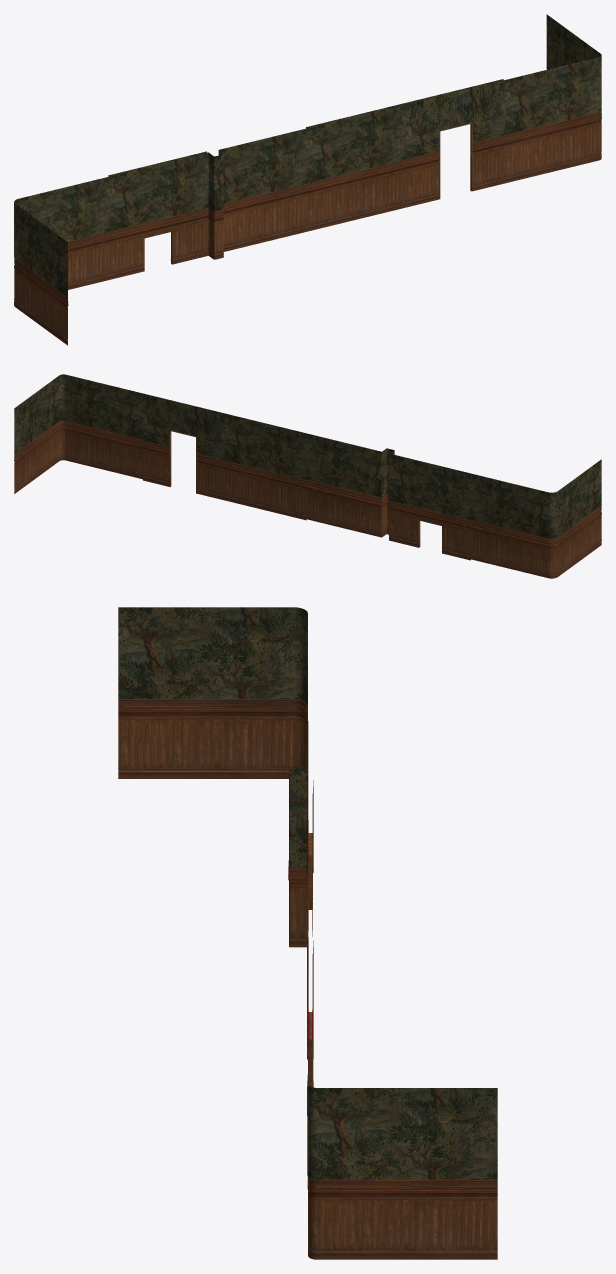
Rendered from Modular_Painted_Walls_Pack.fbx.
The picture shows the model from 3 angles, top to bottom: view 1: azimuth 30°, elevation 25°; view 2: azimuth 150°, elevation 25°; view 3: azimuth 270°, elevation 25°; orthographic projection. The views are drawn at different scales.
Visible parts, largest first — view 1: Wall_CornerOutside.001, Wall_CornerInside.001, Wall_Normal.001, Wall_Block.001, Wall_Vent.002, Wall_Door.001; view 2: Wall_CornerInside.001, Wall_CornerOutside.001, Wall_Normal.001, Wall_Block.001, Wall_Vent.002, Wall_Door.001; view 3: Wall_CornerOutside.001, Wall_CornerInside.001, Wall_Block.001.
Boxes of the visible parts, x1=… form: Wall_CornerOutside.001: x1=504, y1=14, x2=601, y2=183; Wall_CornerInside.001: x1=14, y1=176, x2=109, y2=345; Wall_Normal.001: x1=306, y1=103, x2=406, y2=231; Wall_Block.001: x1=208, y1=128, x2=307, y2=259; Wall_Vent.002: x1=108, y1=151, x2=208, y2=279; Wall_Door.001: x1=404, y1=79, x2=505, y2=207; Wall_CornerInside.001: x1=472, y1=459, x2=601, y2=578; Wall_CornerOutside.001: x1=14, y1=374, x2=143, y2=493; Wall_Normal.001: x1=224, y1=413, x2=308, y2=520; Wall_Block.001: x1=308, y1=434, x2=394, y2=537; Wall_Vent.002: x1=388, y1=454, x2=472, y2=560; Wall_Door.001: x1=142, y1=393, x2=225, y2=500; Wall_CornerOutside.001: x1=307, y1=1084, x2=497, y2=1259; Wall_CornerInside.001: x1=118, y1=607, x2=308, y2=832; Wall_Block.001: x1=288, y1=767, x2=308, y2=1008.
Bounding box in the file's own units: 1202 × 200 × 400.
